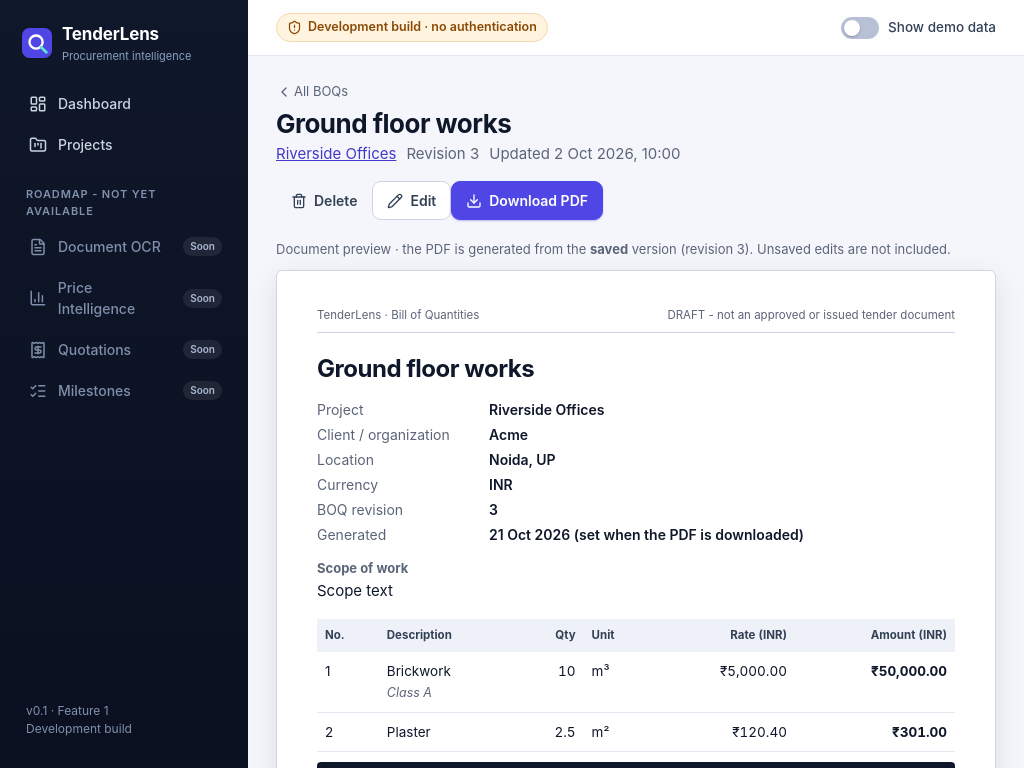
Scenario: BOQ preview, PDF download and delete › downloads the PDF for the previewed revision
This screenshot has width=1024, height=768.
Click the button "Download PDF": (527, 201) [451,181,603,220]
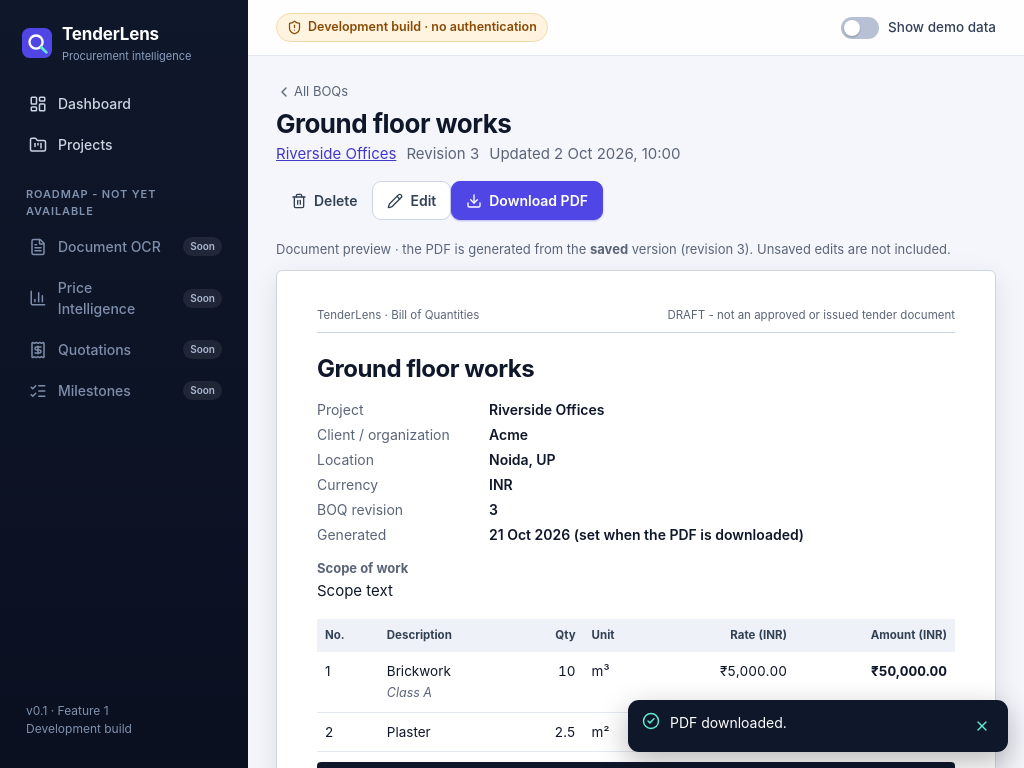
Now the text "PDF downloaded." is shown, box [670,714,787,731]
